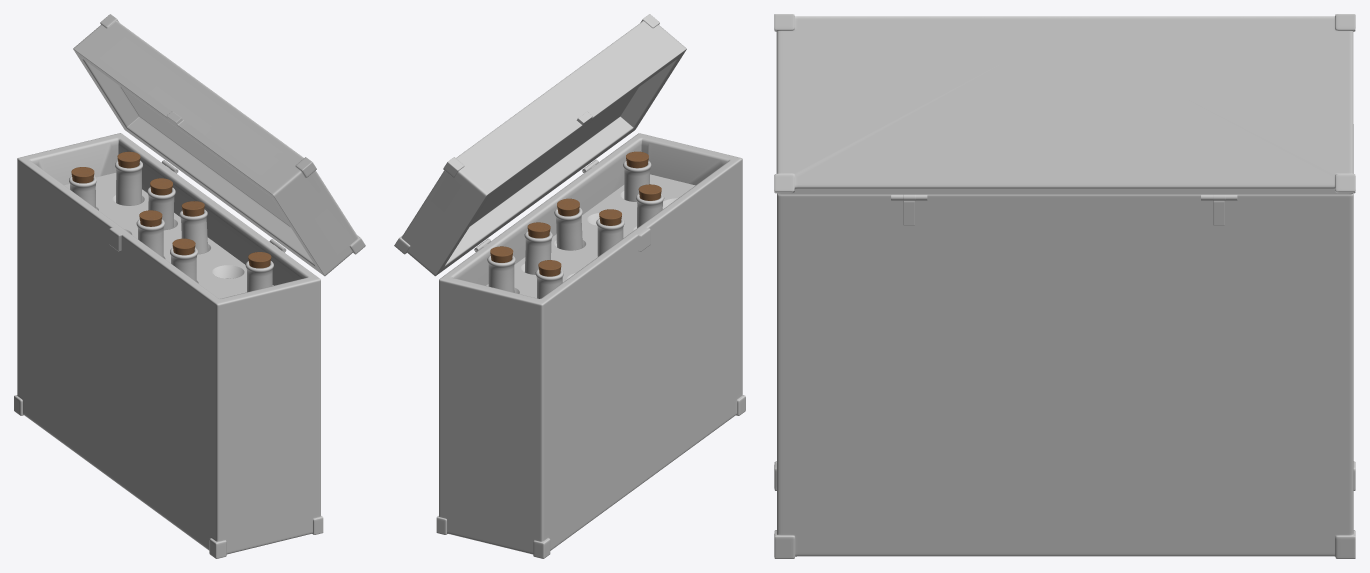
File: apothecaryCase_steph_04.fbx
The picture shows the model from 3 angles, left to right: view 1: azimuth 30°, elevation 25°; view 2: azimuth 150°, elevation 25°; view 3: azimuth 270°, elevation 25°; orthographic projection. The views are drawn at different scales.
Parts seen in each view (by area): view 1: case_body, case_lid, shelf, vial.001, vial.004, vial.002, vial.003, vial.006, vial.005, vial; view 2: case_body, case_lid, shelf, vial.004, vial.002, vial.001, vial.006, vial.003, vial.005, vial; view 3: case_body, case_lid.
Boxes of the visible parts, <box> form: case_body: <box>14,133,323,558</box>; case_lid: <box>73,14,365,276</box>; shelf: <box>64,173,273,298</box>; vial.001: <box>115,160,142,205</box>; vial.004: <box>179,209,208,254</box>; vial.002: <box>147,187,175,229</box>; vial.003: <box>136,219,164,257</box>; vial.006: <box>245,261,273,292</box>; vial.005: <box>170,247,197,281</box>; vial: <box>69,176,96,208</box>; case_body: <box>436,133,745,558</box>; case_lid: <box>394,14,686,276</box>; shelf: <box>486,174,695,298</box>; vial.004: <box>554,207,582,250</box>; vial.002: <box>524,231,552,274</box>; vial.001: <box>487,255,515,292</box>; vial.006: <box>623,160,651,201</box>; vial.003: <box>596,218,624,256</box>; vial.005: <box>636,193,664,227</box>; vial: <box>535,269,563,298</box>; case_body: <box>774,124,1355,558</box>; case_lid: <box>774,14,1355,194</box>.
Size of the model in its own units: 20.01 by 47.36 by 46.46.
